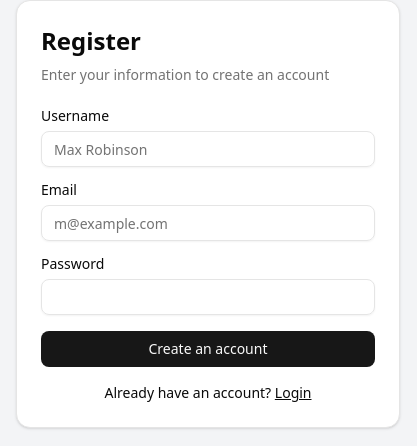
Test: The Register Page › should let a user register and then show the login page
The width and height of the screenshot is (417, 446).
In the field labelled "Username": (208, 149) [41, 131, 375, 167], type "testuser"
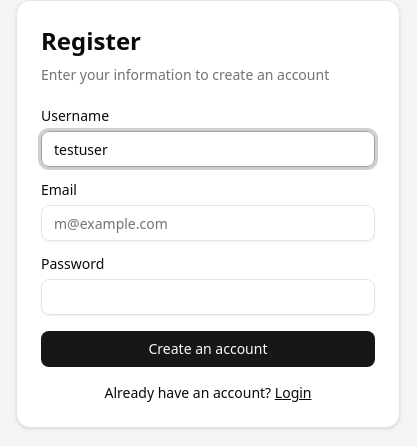
In the field labelled "Email": (208, 223) [41, 205, 375, 241], type "test@example.com"
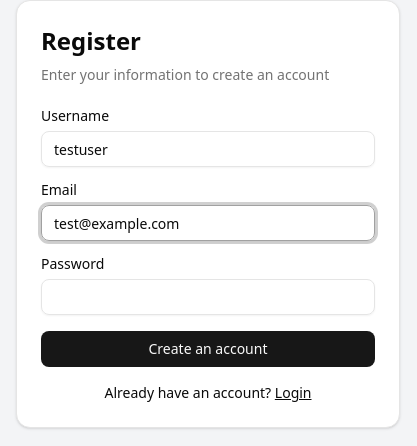
In the password field labelled "Password": (208, 297) [41, 279, 375, 315], type "password123"
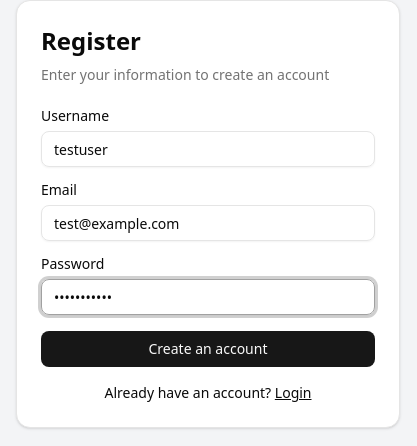
// The robot clicks the "Create an account" button.
Click the button "Create an account": (208, 349) [41, 331, 375, 367]
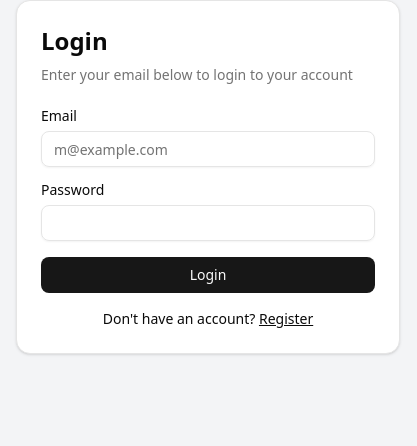
Now the heading "Login" is shown, box [41, 24, 108, 57]
